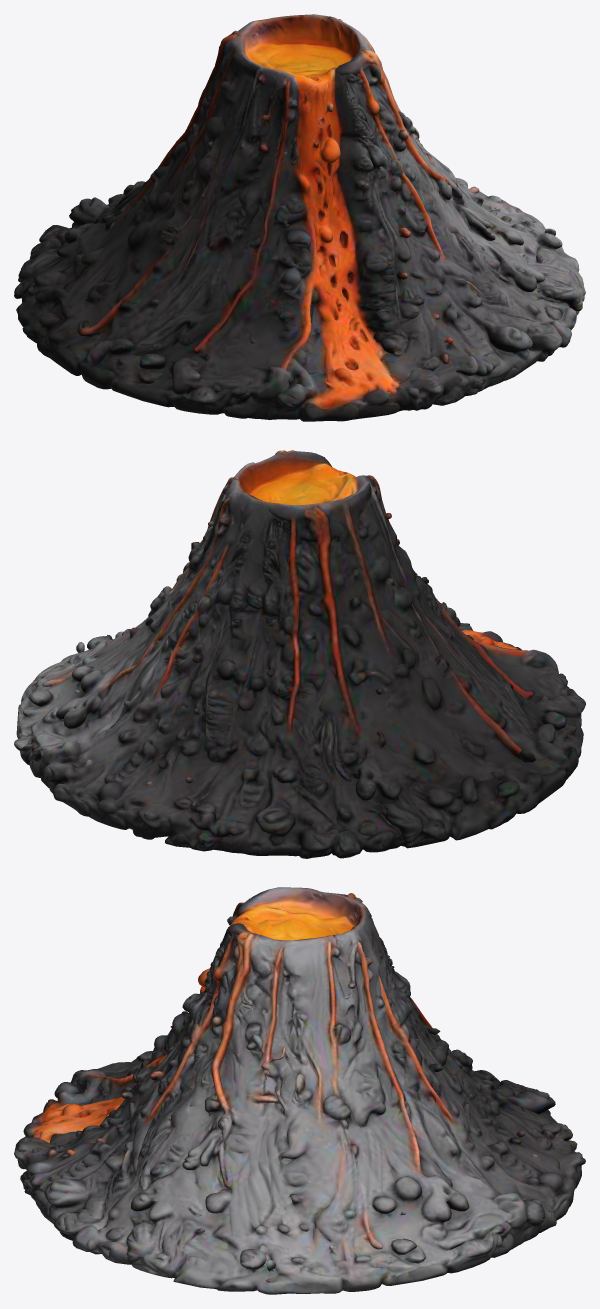
Rendered from volcano.glb.
The picture shows the model from 3 angles, top to bottom: view 1: azimuth 30°, elevation 25°; view 2: azimuth 150°, elevation 25°; view 3: azimuth 270°, elevation 25°; orthographic projection.
Visible parts, largest first — view 1: tripo_node_a2c5733f-0ff6-4551-bc5e-0df949eec7ff; view 2: tripo_node_a2c5733f-0ff6-4551-bc5e-0df949eec7ff; view 3: tripo_node_a2c5733f-0ff6-4551-bc5e-0df949eec7ff.
Boxes of the visible parts, <box> form: tripo_node_a2c5733f-0ff6-4551-bc5e-0df949eec7ff: <box>14,14,585,421</box>; tripo_node_a2c5733f-0ff6-4551-bc5e-0df949eec7ff: <box>14,450,585,858</box>; tripo_node_a2c5733f-0ff6-4551-bc5e-0df949eec7ff: <box>14,887,585,1294</box>.
Bounding box in the file's own units: 0.9783 × 0.503 × 0.9787.
Materials: 1 (1 with a texture image).
